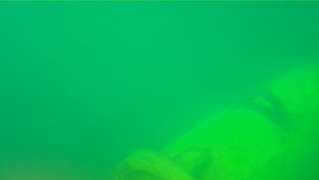4: (227, 88, 295, 133)
pipe: (115, 58, 319, 179)
